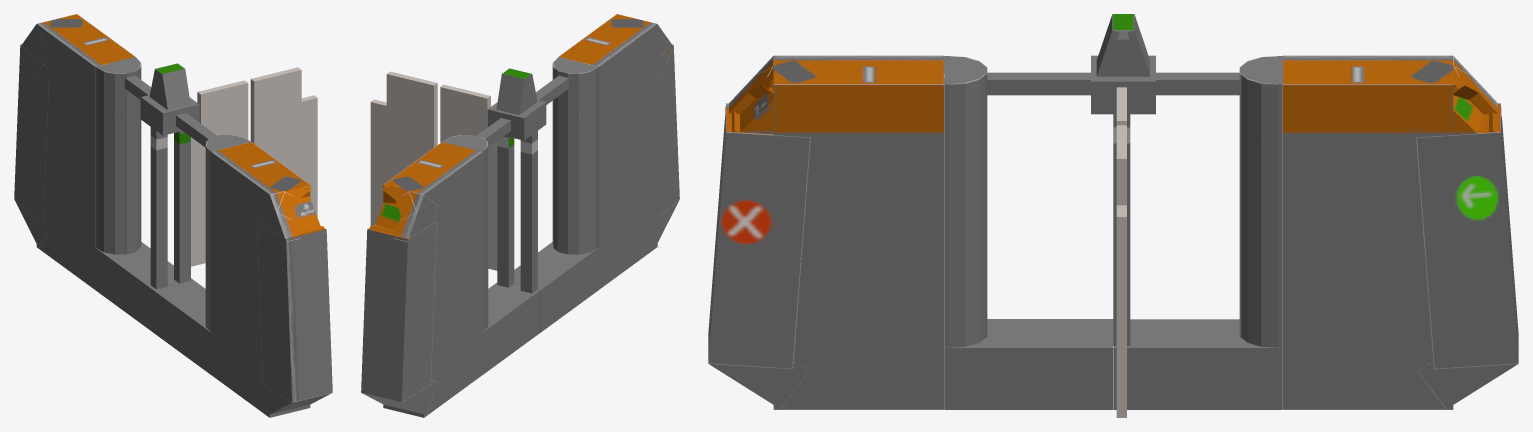
The model's file is depart_gate_block_right_closed.obj.
The picture shows the model from 3 angles, left to right: view 1: azimuth 30°, elevation 25°; view 2: azimuth 150°, elevation 25°; view 3: azimuth 270°, elevation 25°; orthographic projection. The views are drawn at different scales.
Visible parts, largest first — view 1: cube; view 2: cube; view 3: cube.
Part boxes in pixels (x1,y1,x2,y2): cube: [14, 14, 332, 417]; cube: [361, 14, 679, 417]; cube: [708, 14, 1518, 417].
Size of the model in its own units: 1.02 by 1.51 by 2.96.
Materials: 1 (1 with a texture image).
